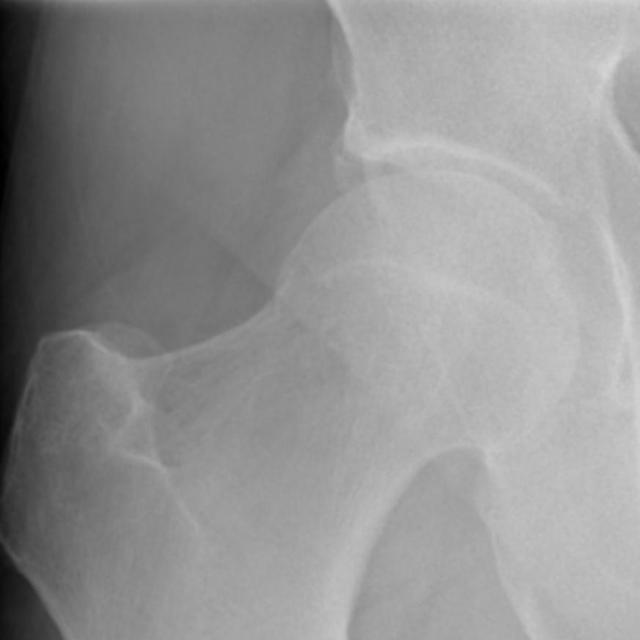Fitted_femural_head: (305, 166, 432, 305)
